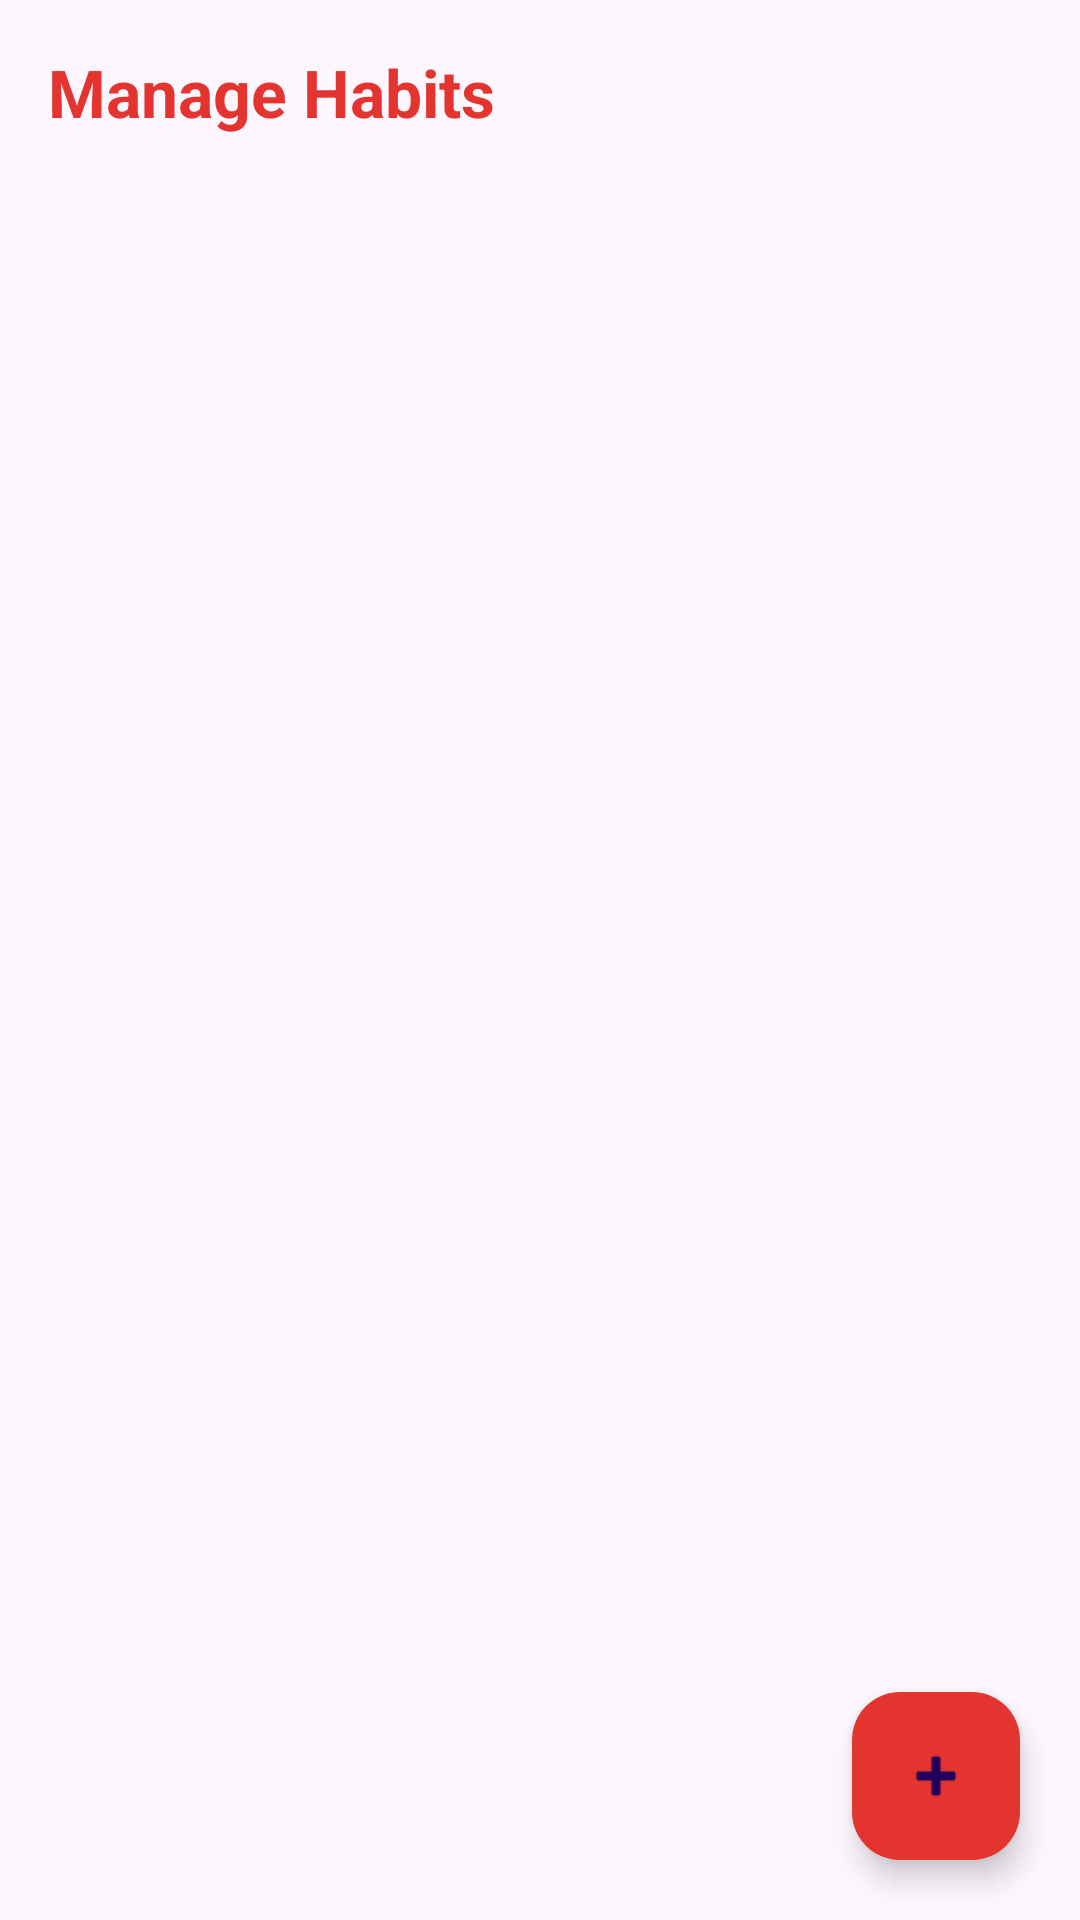

Icon bounding boxes for this 1080px x 1920px phone screenshot, format [x1,y1,x2,y2]:
Add habit: [852,1692,1020,1860]
